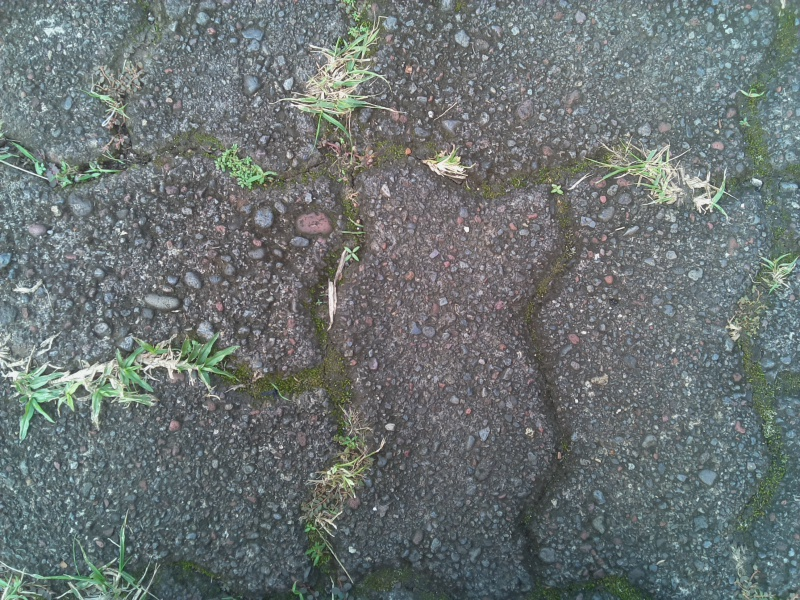Weed: (5, 347, 138, 441), (608, 141, 724, 220), (290, 40, 381, 125), (139, 325, 237, 396), (312, 436, 369, 499), (214, 143, 274, 192), (417, 142, 475, 191), (51, 152, 115, 192), (89, 90, 137, 131), (760, 249, 796, 299), (293, 506, 343, 539), (719, 311, 751, 348), (336, 241, 369, 268), (301, 538, 330, 568), (737, 80, 767, 106), (547, 179, 568, 201)
